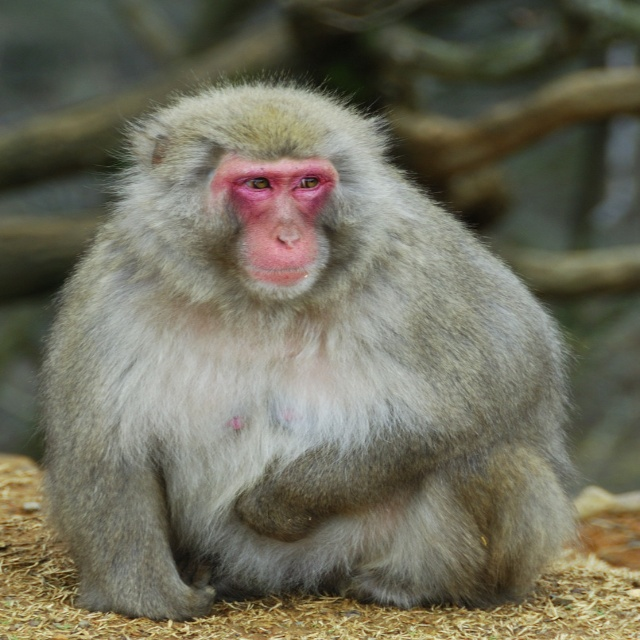Monkey: (40, 90, 618, 635)
